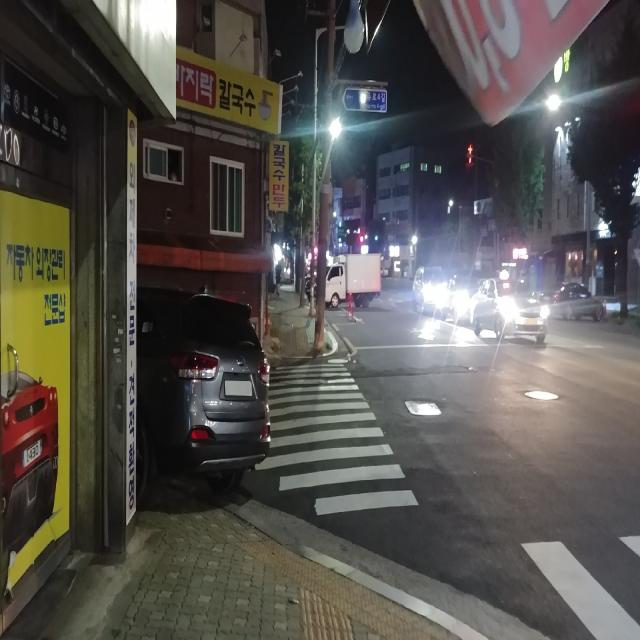횡단보도: (247, 364, 420, 517), (500, 546, 640, 640)
